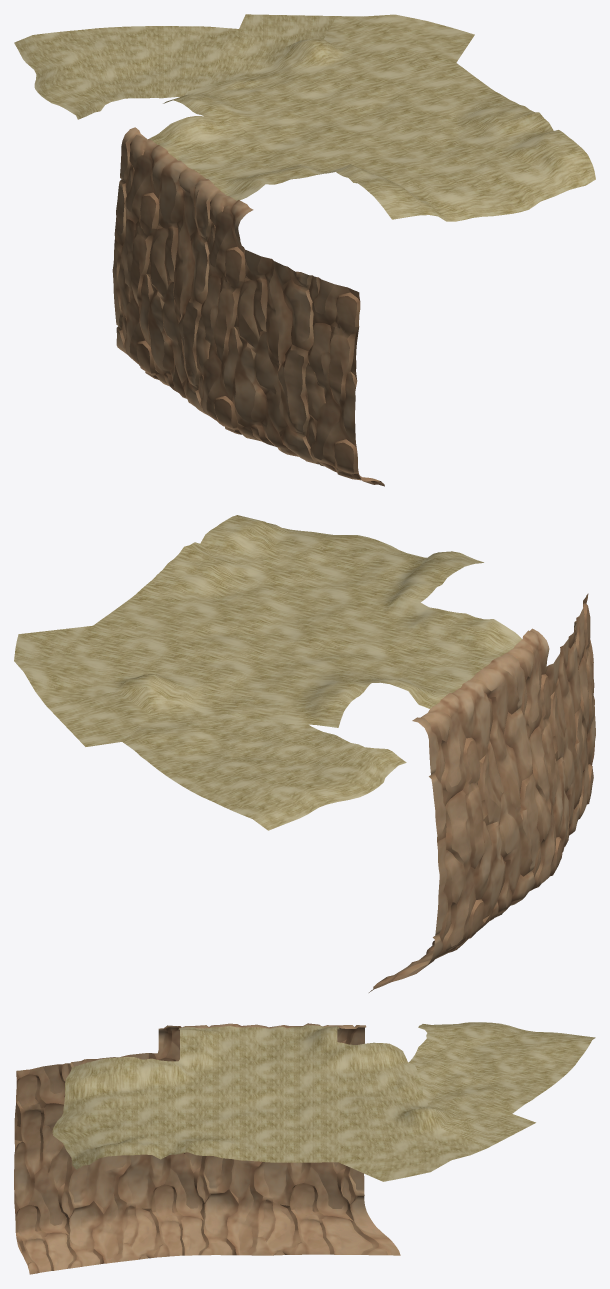
Rendered from SM_ENV_KNFRST_MassiveRuinGrounda.FBX.
The picture shows the model from 3 angles, top to bottom: view 1: azimuth 30°, elevation 25°; view 2: azimuth 150°, elevation 25°; view 3: azimuth 270°, elevation 25°; orthographic projection. The views are drawn at different scales.
Parts seen in each view (by area): view 1: SM_ENV_KNFRST_MassiveRuinGrounda; view 2: SM_ENV_KNFRST_MassiveRuinGrounda; view 3: SM_ENV_KNFRST_MassiveRuinGrounda.
Part boxes in pixels (box(x1,y1,x2,y2)): SM_ENV_KNFRST_MassiveRuinGrounda: box(14, 14, 595, 486); SM_ENV_KNFRST_MassiveRuinGrounda: box(14, 515, 595, 992); SM_ENV_KNFRST_MassiveRuinGrounda: box(14, 1022, 595, 1274).
Bounding box in the file's own units: 4525 × 2892 × 6572.
